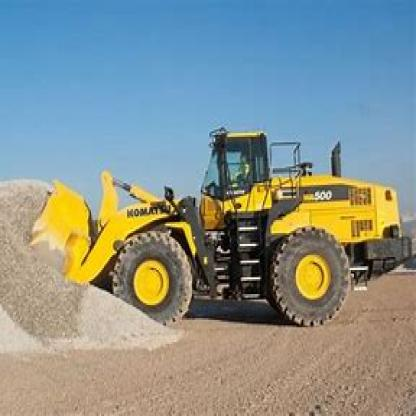bull_dozer/loader/grader: (19, 120, 414, 377)
